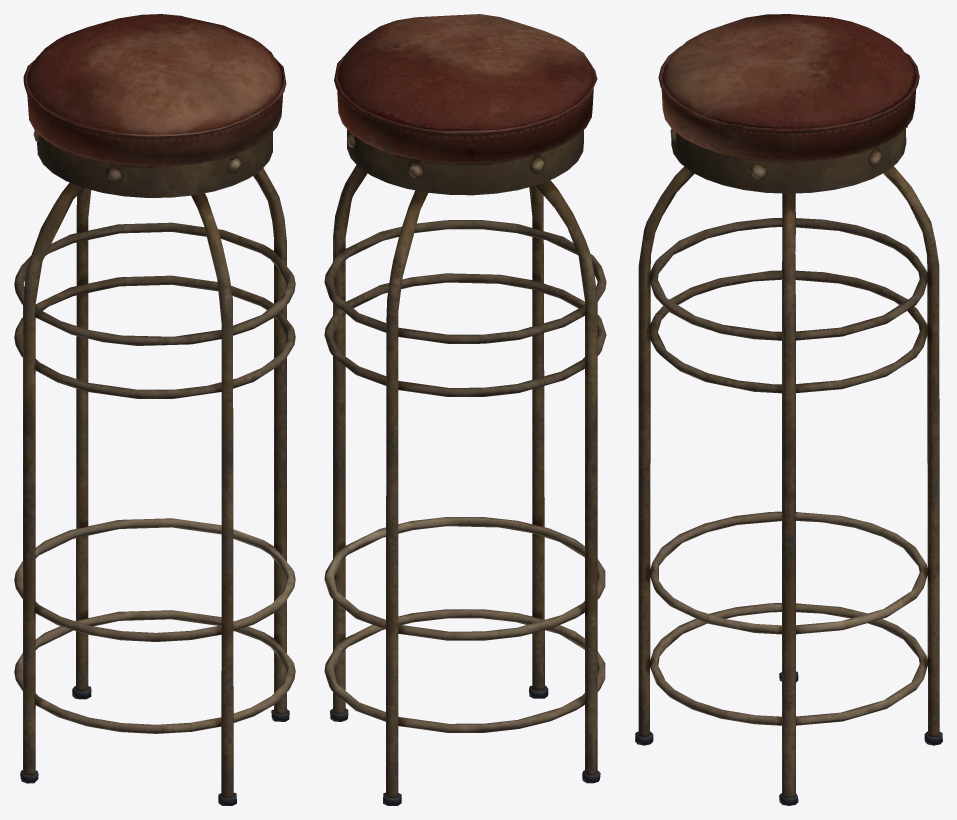
Rendered from metal_stool_01.glb.
3 views of the same model, side by side, from view 1: azimuth 30°, elevation 25°; view 2: azimuth 150°, elevation 25°; view 3: azimuth 270°, elevation 25° (orthographic).
Visible parts, largest first — view 1: metal_stool_01; view 2: metal_stool_01; view 3: metal_stool_01.
Boxes of the visible parts, x1=… form: metal_stool_01: x1=14, y1=14, x2=295, y2=805; metal_stool_01: x1=324, y1=14, x2=606, y2=805; metal_stool_01: x1=635, y1=14, x2=942, y2=805.
Size of the model in its own units: 0.3509 by 0.8822 by 0.3538.
Materials: 1 (1 with a texture image).
